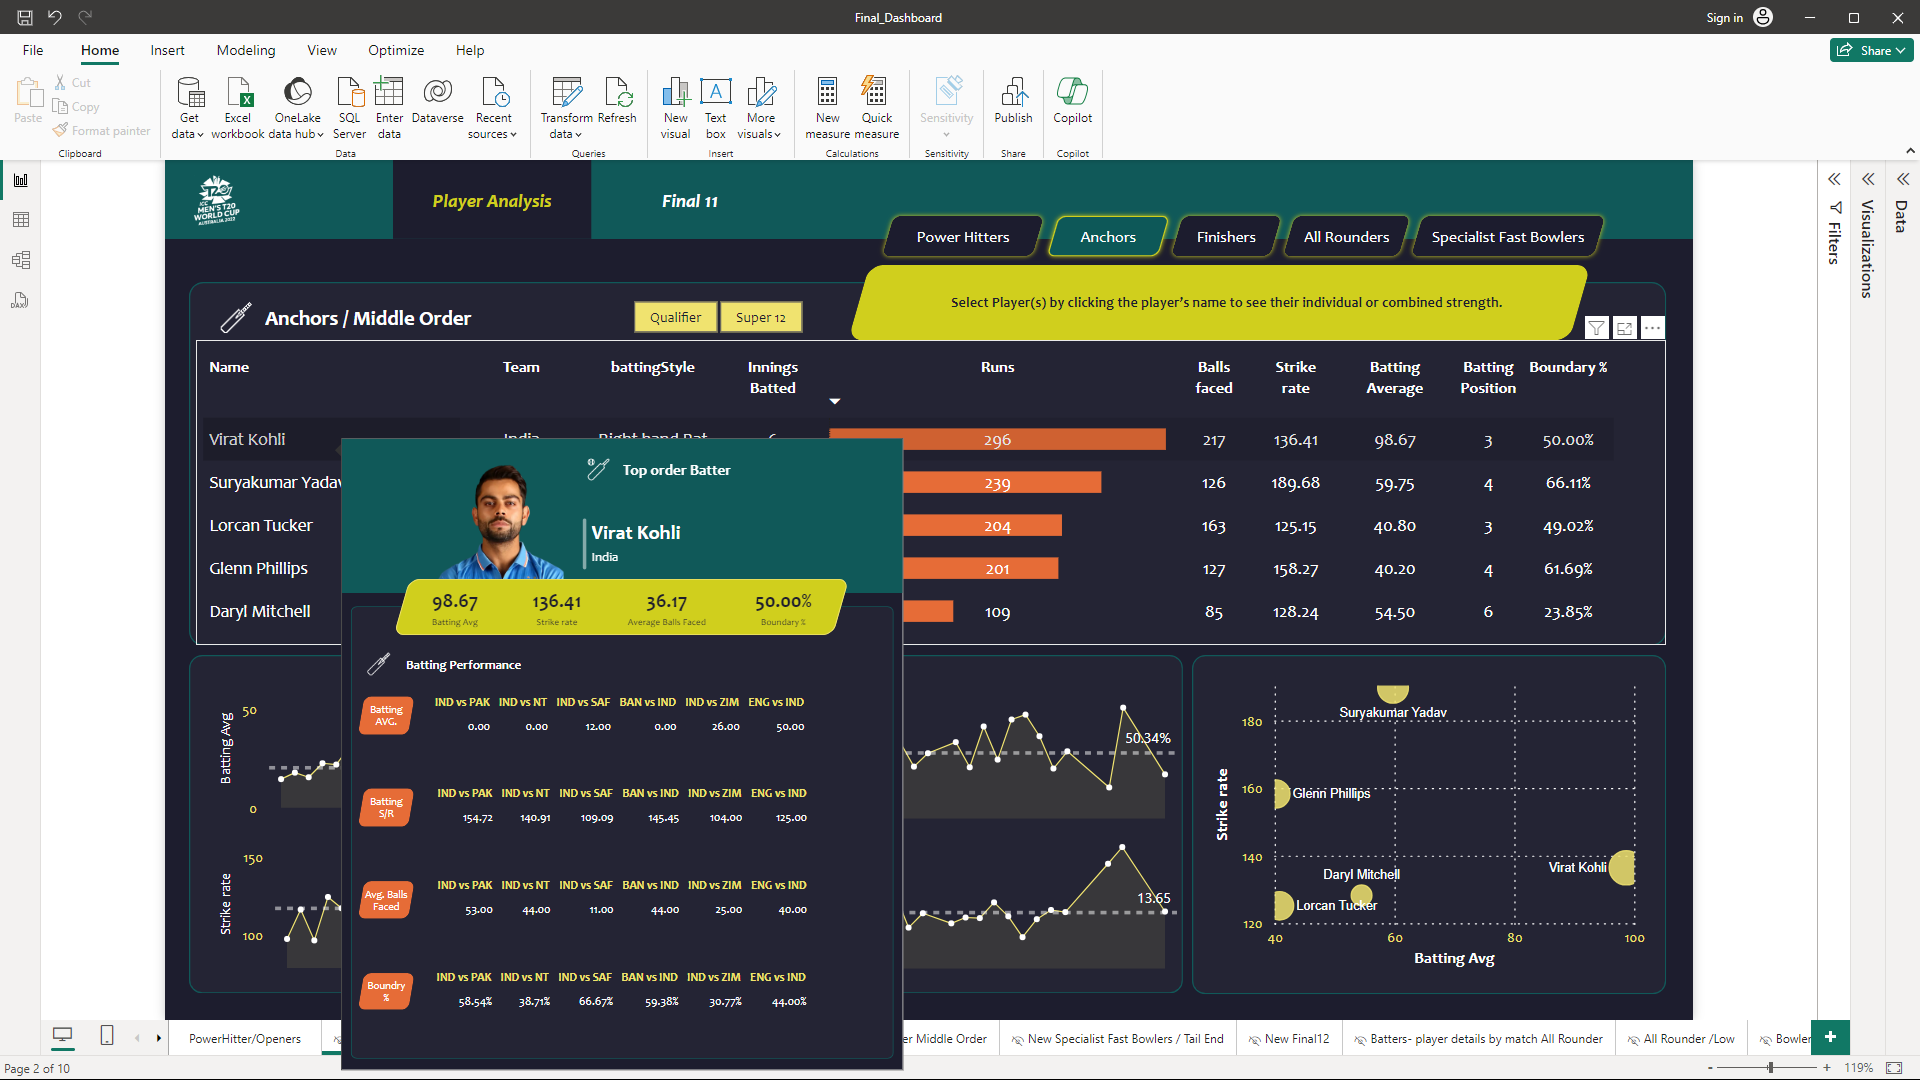

The page's visual inventory and layout, read from the dashboard file:
{"tool":"powerbi","page":{"name":"New Anchors / Middle Order","canvas":[1280,720],"ordinal":1},"visuals":[{"type":"shape","box":[0,66,1280,654],"z":0},{"type":"card","fields":{"Values":["Key_Measures.Strike rate"]},"box":[866.4,88.6,93,60],"z":0,"group":"g2"},{"type":"group","id":"g1","title":"Group 2","box":[83.8,116.2,260,31.2],"z":0,"group":"g3"},{"type":"shape","box":[83.8,116.2,260,31.2],"z":0,"group":"g1"},{"type":"card","fields":{"Values":["Key_Measures.Bat Avg"]},"box":[767.4,88.6,92,60],"z":1000,"group":"g2"},{"type":"image","box":[38,114,44,36],"z":1000,"group":"g3"},{"type":"shape","box":[20,414.4,832.2,283.3],"z":1000},{"type":"actionButton","box":[734,42.6,111,42],"z":2000},{"type":"card","fields":{"Values":["Key_Measures.Avergate Balls Faced"]},"box":[1063,90.3,110,56.7],"z":2000,"group":"g2"},{"type":"actionButton","box":[596,42.6,144,42],"z":3000},{"type":"card","fields":{"Values":["Key_Measures.Boundary %"]},"box":[965.4,88.6,101,60],"z":3000,"group":"g2"},{"type":"actionButton","box":[838,42.6,101,42],"z":4000},{"type":"actionButton","box":[932,42.6,115,42],"z":5000},{"type":"actionButton","box":[1039,42.6,171,42],"z":6000},{"type":"image","box":[19.6,4.9,48,58.8],"z":7000},{"type":"areaChart","fields":{"Category":["dim_match_summary.Match_Date.Variation.Date Hierarchy.Day"],"Y":["Key_Measures.Boundary %"]},"box":[446,430,406,126],"z":9000},{"type":"shape","box":[860,414,397,284],"z":10000},{"type":"areaChart","fields":{"Category":["dim_match_summary.Match_Date.Variation.Date Hierarchy.Day"],"Y":["Key_Measures.Avergate Balls Faced"]},"box":[446,556,406,126],"z":11000},{"type":"areaChart","fields":{"Category":["dim_match_summary.Match_Date.Variation.Date Hierarchy.Day"],"Y":["Key_Measures.Bat Avg"]},"box":[40,428.9,395.6,126.7],"z":12000},{"type":"areaChart","fields":{"Category":["dim_match_summary.Match_Date.Variation.Date Hierarchy.Day"],"Y":["Key_Measures.Strike rate"]},"box":[40,555.6,396.7,125.6],"z":13000},{"type":"shape","box":[20,102.2,1236.7,304.4],"z":14000},{"type":"slicer","fields":{"Values":["dim_match_summary.stage"]},"box":[366.7,111.1,191.1,38.9],"z":15000},{"type":"shape","box":[572,88,622,63],"z":16000},{"type":"shape","box":[590.4,101.6,173,34],"z":17000},{"type":"group","id":"g2","title":"Combined Perfoamce Metrices","box":[767.4,88.6,405.6,60],"z":18000},{"type":"group","id":"g3","title":"Group 1","box":[38,114,305.8,36],"z":19000},{"type":"tableEx","fields":{"Values":["dim_player.name","dim_player.team","dim_player.Batting Style","Key_Measures.Total Matches","Key_Measures.Total Runs","Key_Measures.total balls faced","Key_Measures.Strike rate","Key_Measures.Bat Avg","Key_Measures.Batting Position","Key_Measures.Boundary %"]},"box":[26,151,1231,255],"z":20000},{"type":"scatterChart","fields":{"Y":["Key_Measures.Strike rate"],"Category":["dim_player.name"],"X":["Key_Measures.Bat Avg"],"Size":["Key_Measures.Total Runs"]},"box":[874,427,370,254],"z":21000},{"type":"actionButton","title":"Button Player Ana selected","box":[357,0,166,66],"z":22000},{"type":"actionButton","title":"Button Player Ana selected","box":[191,0,166,66],"z":23000},{"type":"shape","box":[608.6,100.9,560.6,36.3],"z":23501}]}

Visuals, with their boxes on the page's 1280x720 design canvas (x1, y1, x2, y2). These are canvas units, not pixel positions in the 1920x1080 screenshot, which may show the page scaled, cropped or inside an application window:
shape: locate(0, 66, 1280, 720)
card - Key_Measures.Strike rate: locate(866, 89, 959, 149)
"Group 2" group: locate(84, 116, 344, 147)
shape: locate(84, 116, 344, 147)
card - Key_Measures.Bat Avg: locate(767, 89, 859, 149)
image: locate(38, 114, 82, 150)
shape: locate(20, 414, 852, 698)
actionButton: locate(734, 43, 845, 85)
card - Key_Measures.Avergate Balls Faced: locate(1063, 90, 1173, 147)
actionButton: locate(596, 43, 740, 85)
card - Key_Measures.Boundary %: locate(965, 89, 1066, 149)
actionButton: locate(838, 43, 939, 85)
actionButton: locate(932, 43, 1047, 85)
actionButton: locate(1039, 43, 1210, 85)
image: locate(20, 5, 68, 64)
areaChart - dim_match_summary.Match_Date.Variation.Date Hierarchy.Day x Key_Measures.Boundary %: locate(446, 430, 852, 556)
shape: locate(860, 414, 1257, 698)
areaChart - dim_match_summary.Match_Date.Variation.Date Hierarchy.Day x Key_Measures.Avergate Balls Faced: locate(446, 556, 852, 682)
areaChart - dim_match_summary.Match_Date.Variation.Date Hierarchy.Day x Key_Measures.Bat Avg: locate(40, 429, 436, 556)
areaChart - dim_match_summary.Match_Date.Variation.Date Hierarchy.Day x Key_Measures.Strike rate: locate(40, 556, 437, 681)
shape: locate(20, 102, 1257, 407)
slicer - dim_match_summary.stage: locate(367, 111, 558, 150)
shape: locate(572, 88, 1194, 151)
shape: locate(590, 102, 763, 136)
"Combined Perfoamce Metrices" group: locate(767, 89, 1173, 149)
"Group 1" group: locate(38, 114, 344, 150)
tableEx - dim_player.name x dim_player.team: locate(26, 151, 1257, 406)
scatterChart - Key_Measures.Strike rate x dim_player.name: locate(874, 427, 1244, 681)
"Button Player Ana selected" actionButton: locate(357, 0, 523, 66)
"Button Player Ana selected" actionButton: locate(191, 0, 357, 66)
shape: locate(609, 101, 1169, 137)
